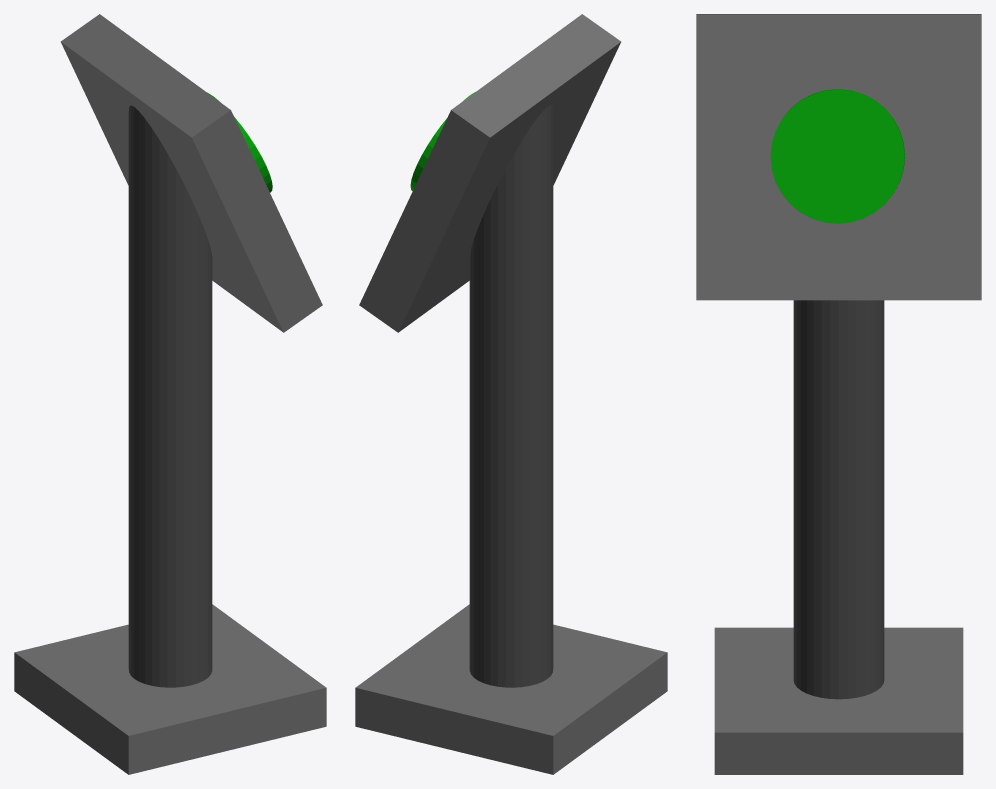
File: startbutton.glb
The picture shows the model from 3 angles, left to right: view 1: azimuth 30°, elevation 25°; view 2: azimuth 150°, elevation 25°; view 3: azimuth 270°, elevation 25°; orthographic projection. The views are drawn at different scales.
Visible parts, largest first — view 1: startbutton.col; view 2: startbutton.col; view 3: startbutton.col.
Boxes of the visible parts, x1,y1,x2,y2 form: startbutton.col: (14,14,326,774); startbutton.col: (355,14,667,774); startbutton.col: (696,14,981,774).
Size of the model in its own units: 0.524 by 1.64 by 0.6019.
